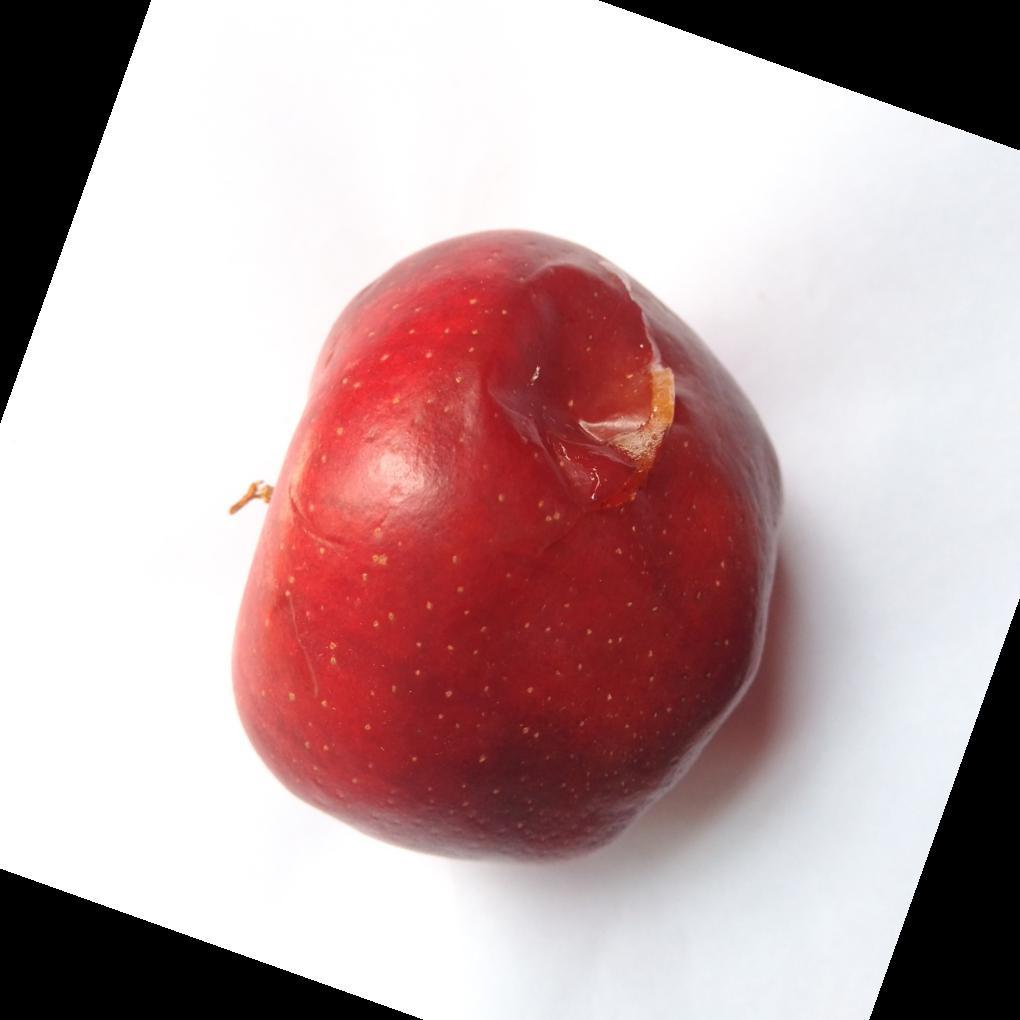FreshOrange: (228, 229, 784, 868)
